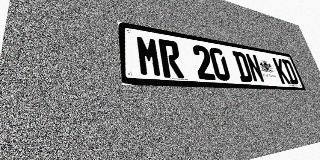0: (208, 47, 231, 81)
2: (192, 44, 216, 80)
D: (232, 51, 254, 82), (281, 59, 300, 85)
K: (272, 57, 291, 84)
M: (135, 35, 163, 77)
N: (245, 53, 265, 83)
R: (158, 39, 184, 78)
